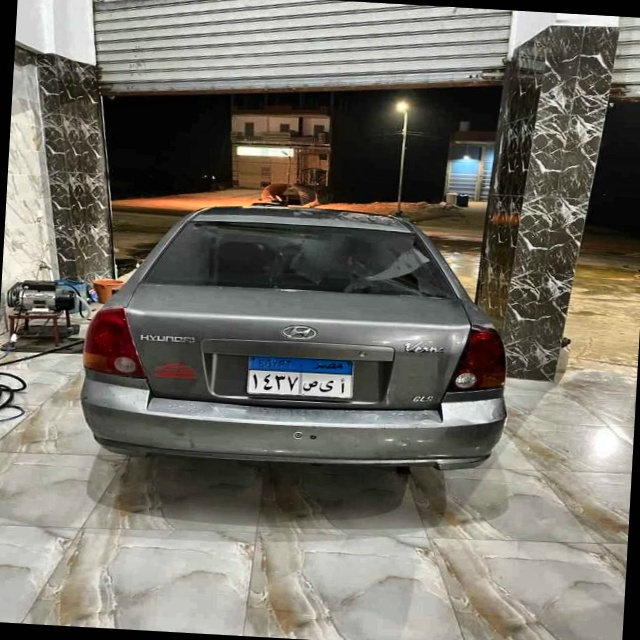License Plate: (241, 353, 358, 402)
